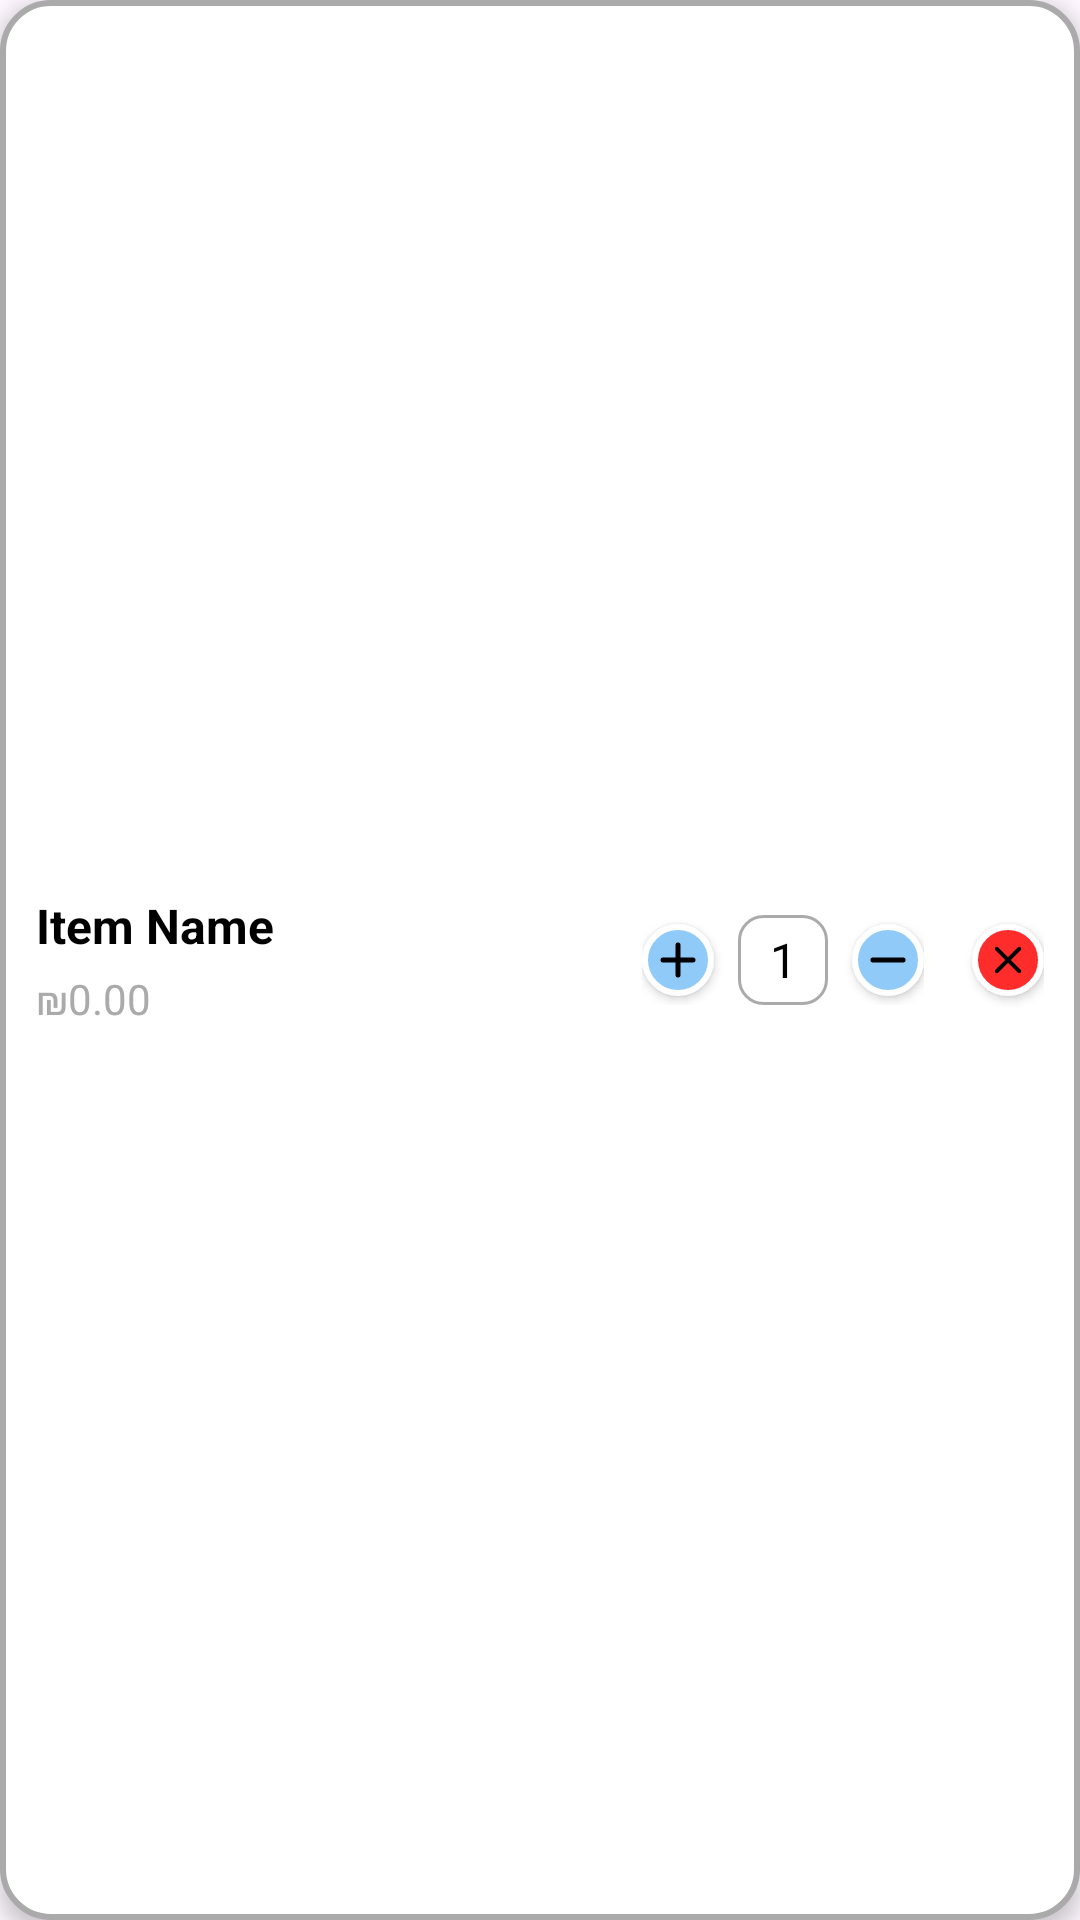

Named icons in this screenshot (1080*1920) and their bounding boxes, rect(x1, y1, x2, y2):
Cancel: rect(978, 930, 1044, 996)
minus: rect(858, 930, 924, 996)
plus: rect(645, 930, 714, 996)
